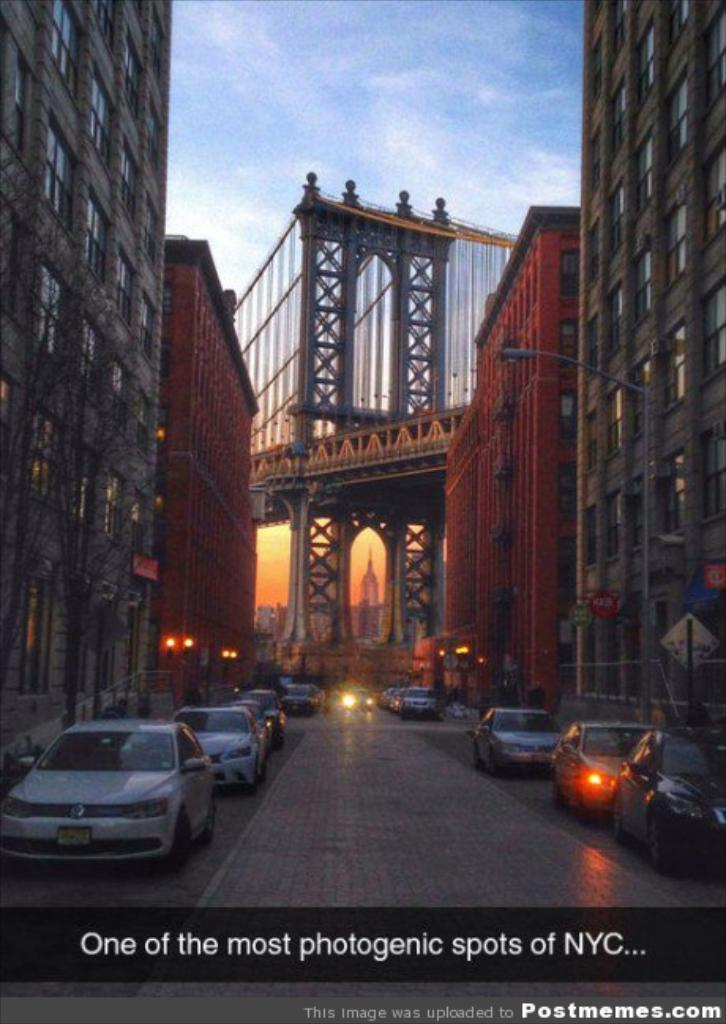cars: (0, 672, 323, 872), (618, 727, 724, 870), (557, 711, 645, 822), (473, 701, 566, 771), (339, 686, 374, 722), (403, 681, 433, 720), (375, 689, 405, 710)
